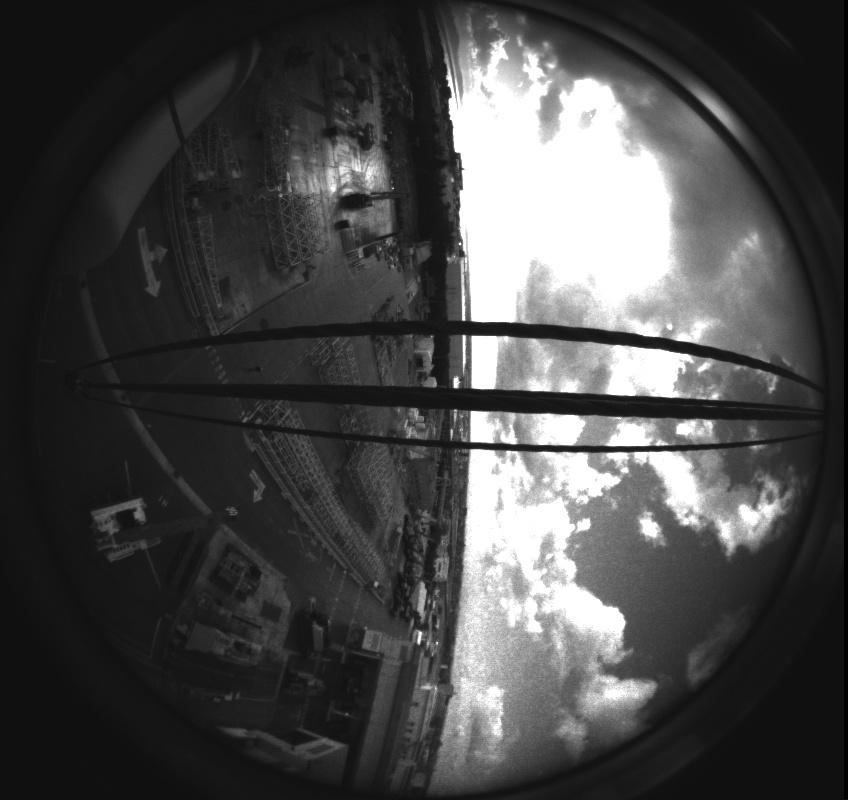rope: (4, 308, 846, 458)
